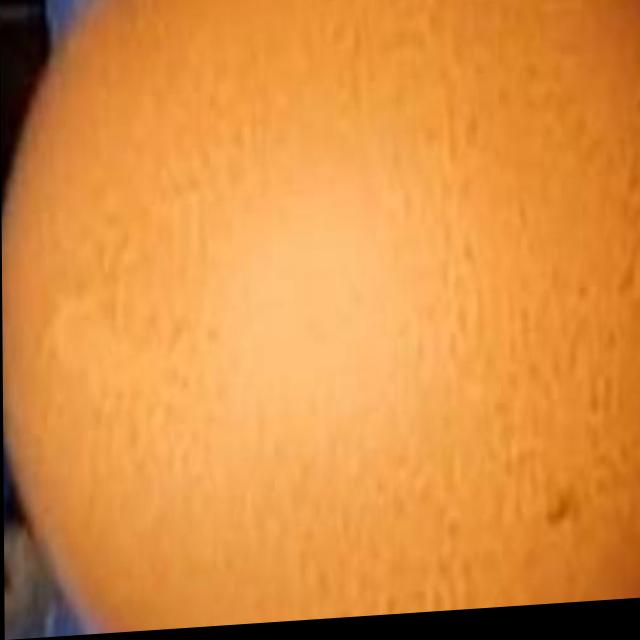unfresh: (3, 0, 640, 640)
